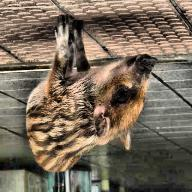boar: (10, 19, 161, 178)
